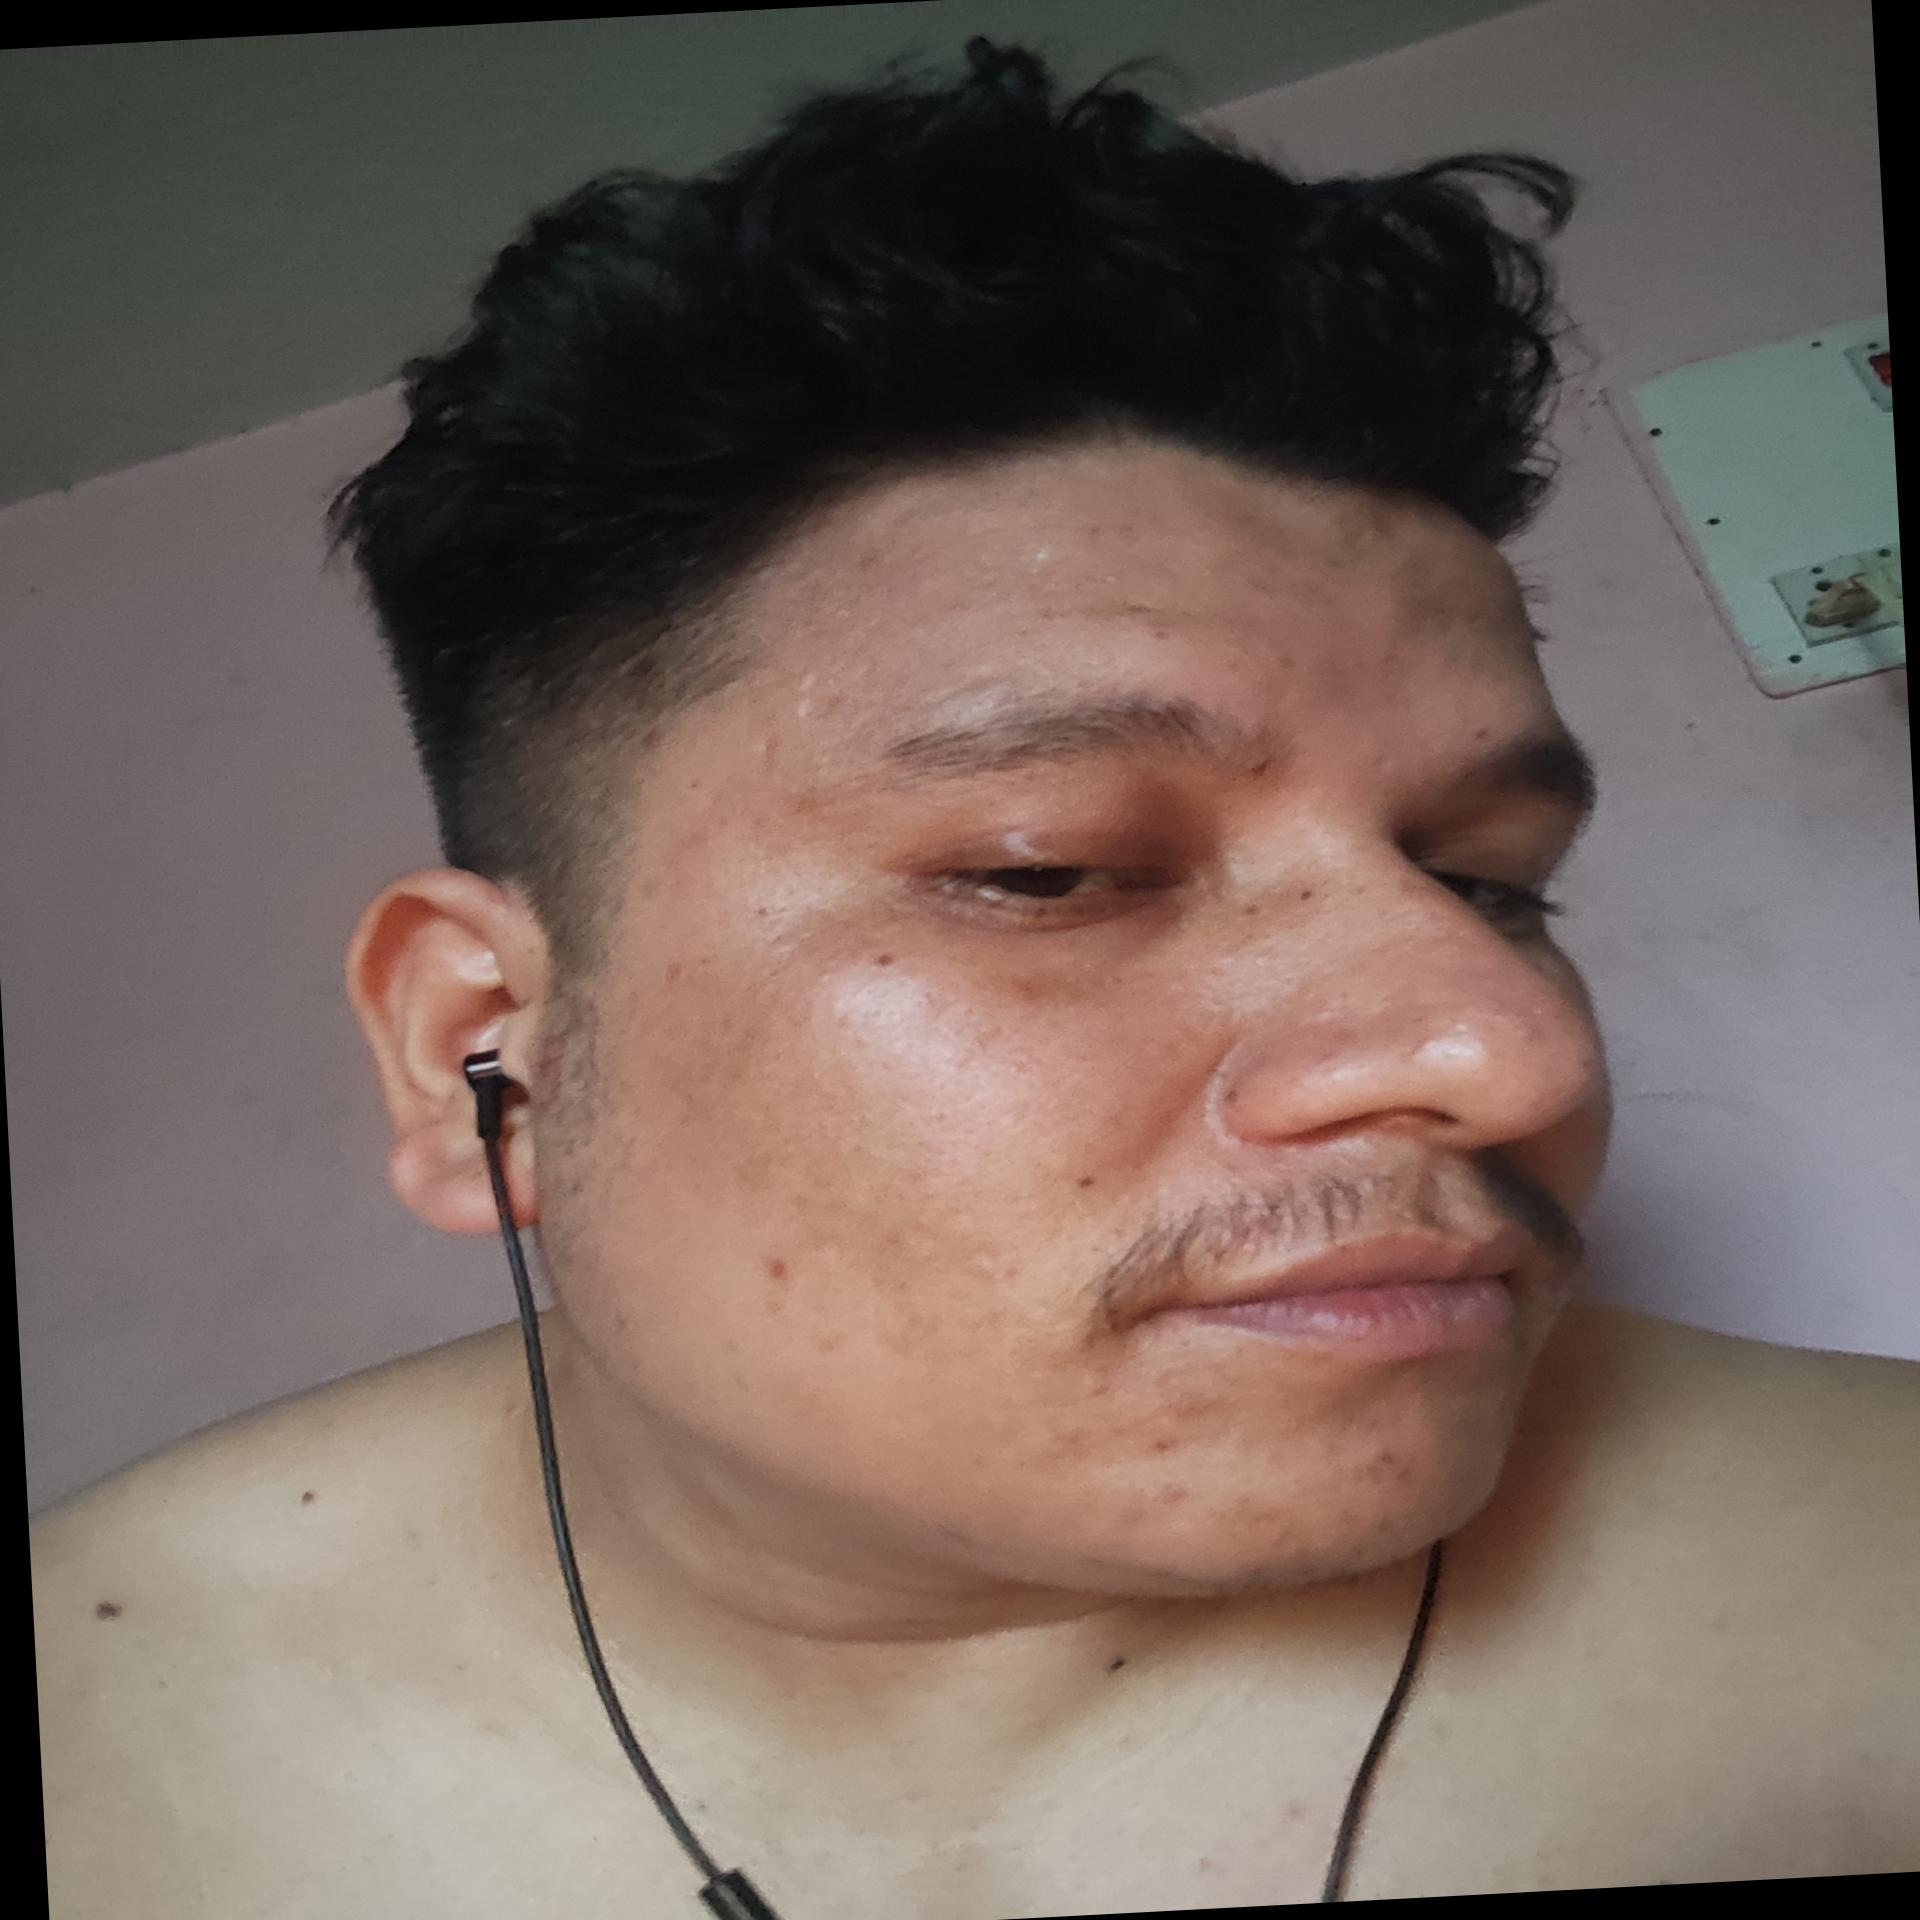Acne: (1111, 1479, 1192, 1535), (1482, 993, 1547, 1043), (1373, 1440, 1417, 1493), (1400, 1030, 1447, 1064), (805, 1331, 849, 1359), (1271, 645, 1305, 677), (758, 1254, 793, 1284), (846, 547, 879, 577), (1145, 1429, 1180, 1458)
Wrinkles: (979, 593, 1275, 635)
